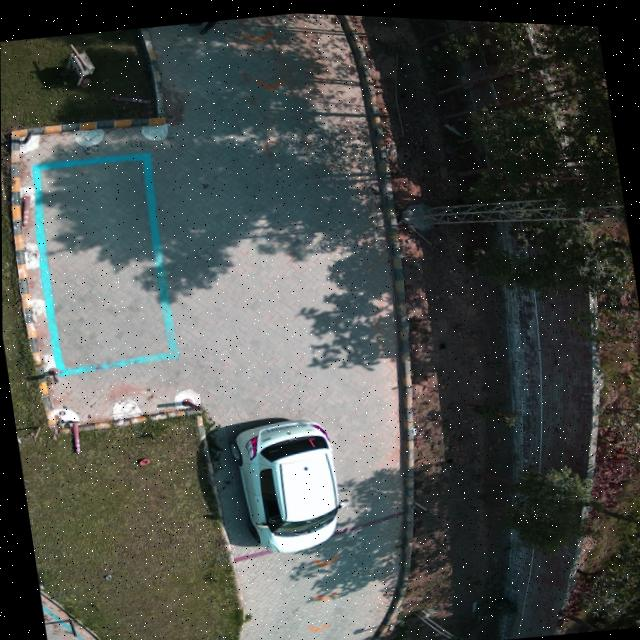car: (231, 415, 343, 552)
